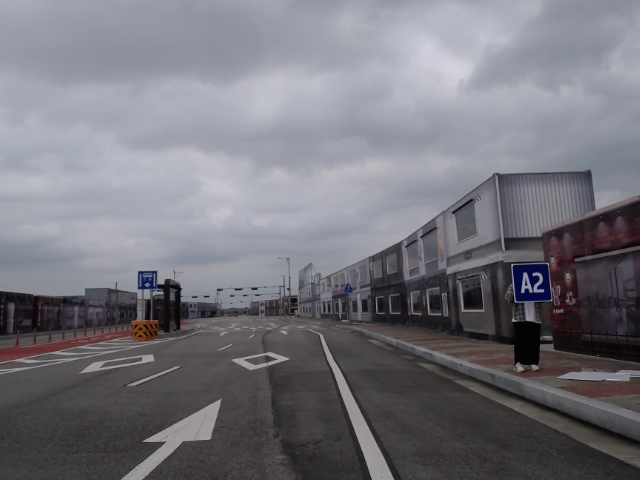delivery_a2: (511, 264, 553, 302)
